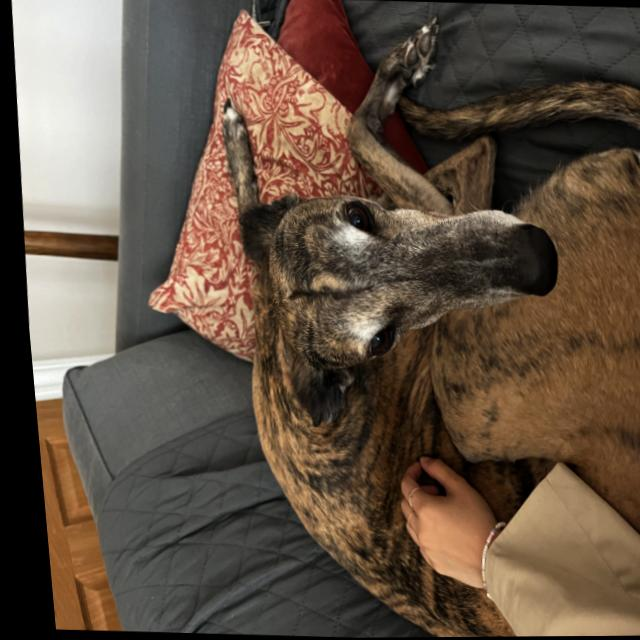dog-greyhound: (232, 177, 576, 436)
